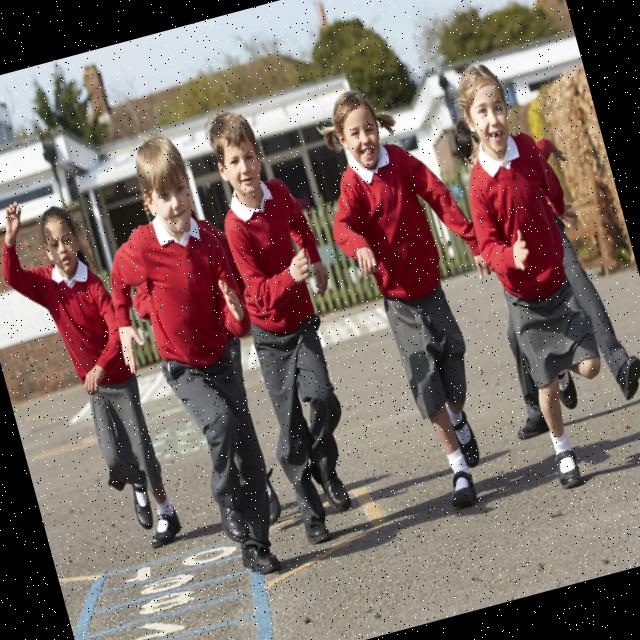Person: (69, 124, 314, 597), (296, 66, 542, 522), (186, 96, 397, 554), (430, 45, 640, 495), (0, 178, 184, 568)
